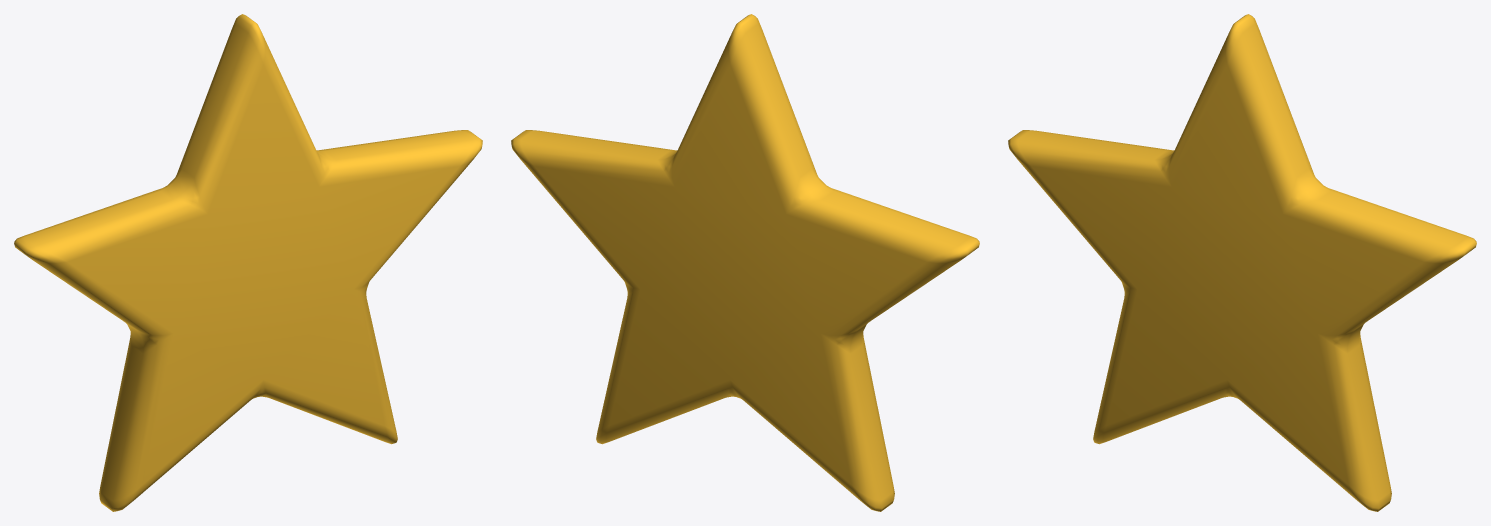
Rendered from SM_WildSquare.fbx.
The picture shows the model from 3 angles, left to right: view 1: azimuth 30°, elevation 25°; view 2: azimuth 150°, elevation 25°; view 3: azimuth 330°, elevation 25°; orthographic projection.
Visible parts, largest first — view 1: SM_WildSquare; view 2: SM_WildSquare; view 3: SM_WildSquare.
Boxes of the visible parts, <box> form: SM_WildSquare: <box>14,14,482,511</box>; SM_WildSquare: <box>511,14,979,511</box>; SM_WildSquare: <box>1008,14,1476,511</box>.
Bounding box in the file's own units: 1.14 × 10 × 9.52.
